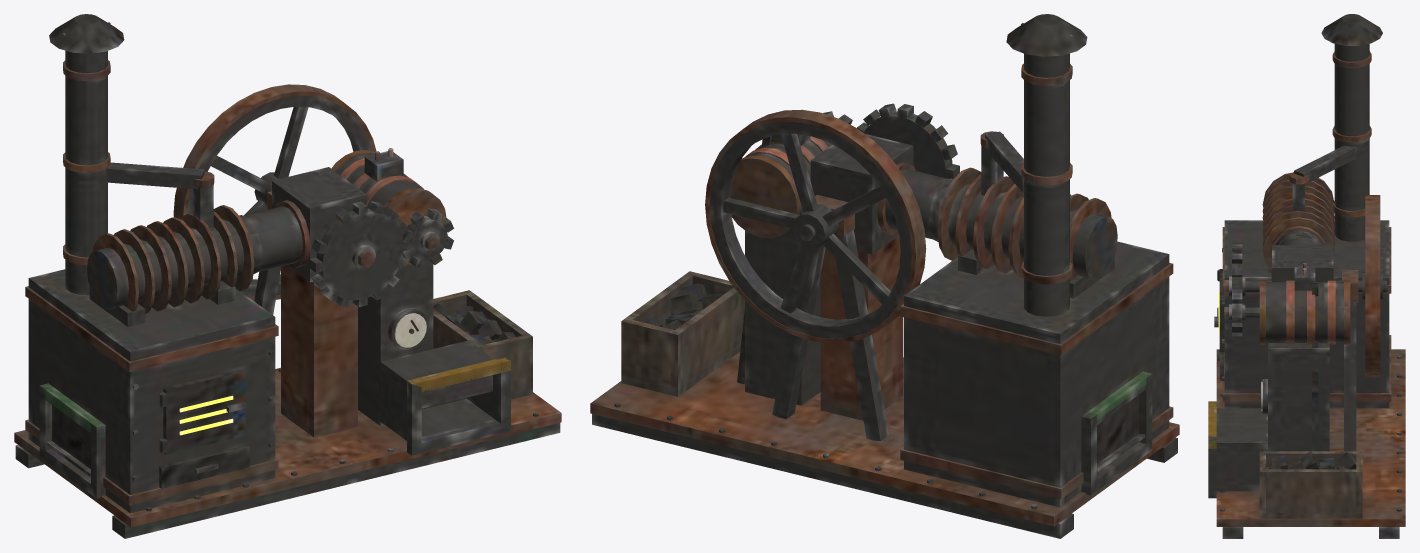
The model's file is feCoalGenerator.glb.
3 renders of one model, left to right at view 1: azimuth 30°, elevation 25°; view 2: azimuth 150°, elevation 25°; view 3: azimuth 270°, elevation 25°, orthographic. The views are drawn at different scales.
Parts seen in each view (by area): view 1: feCoalGen_Base, feCoalGen_Crank, feCoalGen_DynamoRotor; view 2: feCoalGen_Base, feCoalGen_Crank; view 3: feCoalGen_Base, feCoalGen_Crank, feCoalGen_DynamoRotor.
Part boxes in pixels (x1,y1,x2,y2): feCoalGen_Base: [14, 14, 561, 538]; feCoalGen_Crank: [173, 84, 410, 307]; feCoalGen_DynamoRotor: [402, 208, 453, 267]; feCoalGen_Base: [590, 14, 1179, 538]; feCoalGen_Crank: [705, 103, 959, 343]; feCoalGen_Base: [1208, 14, 1405, 538]; feCoalGen_Crank: [1224, 195, 1387, 377]; feCoalGen_DynamoRotor: [1224, 288, 1259, 336].
Bounding box in the file's own units: 1.99 × 1.96 × 0.96.
Materials: 1 (1 with a texture image).
